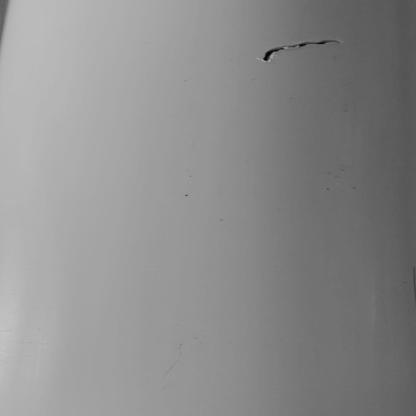fengxi: (259, 38, 344, 62)
